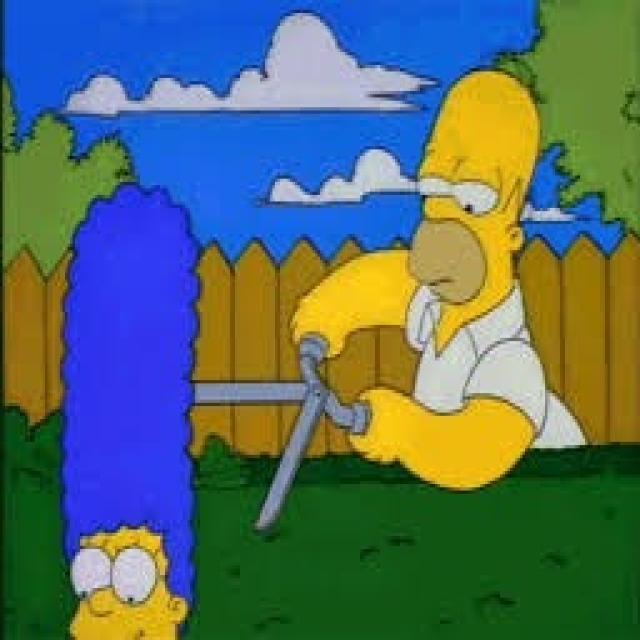Homer Simpson: (400, 51, 550, 327)
Marge Simpson: (50, 175, 208, 640)
